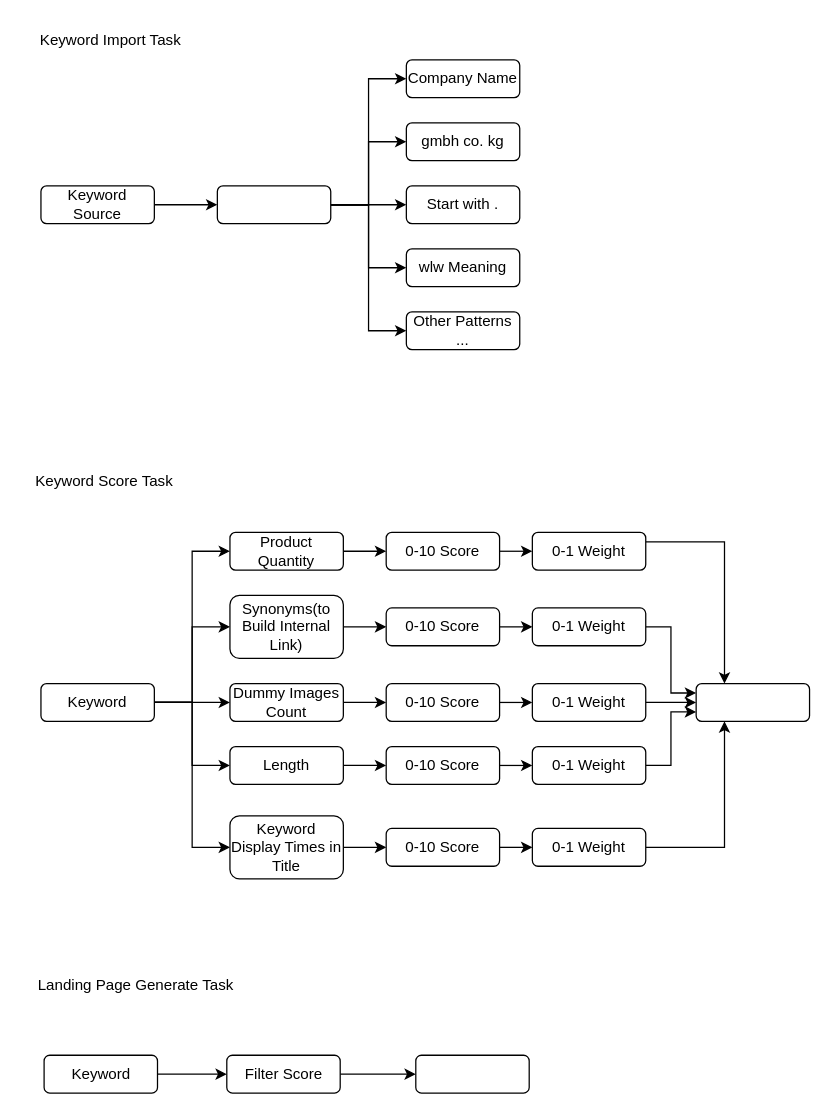
This 832x1115 diagram has some shape labels left out. The centre of each missing label's shape, as x and y in pixels:
"Generate Landing Page" goes at pixel 472 1073.
"Remove Stop keyword" goes at pixel 273 204.
"Sum Weighted Scores" goes at pixel 752 701.
